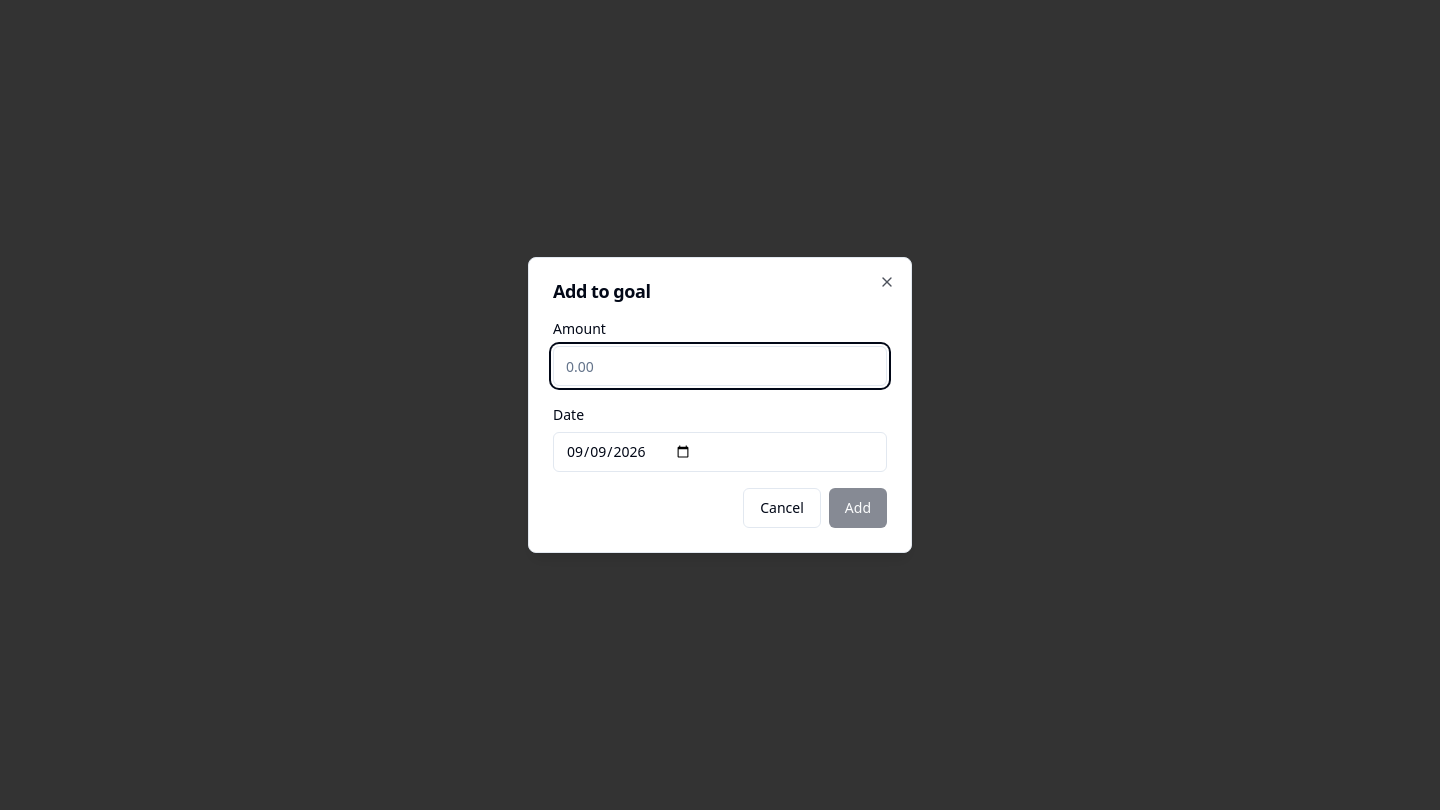
Test case: GoalContributeDialog › has no reason field when contributing and enables on a valid amount
The image size is (1440, 810).
Check: the button "Add" is disabled, box [829, 488, 887, 528]
Type "200" into the field labelled "Amount" at (720, 366), box [553, 346, 887, 386]
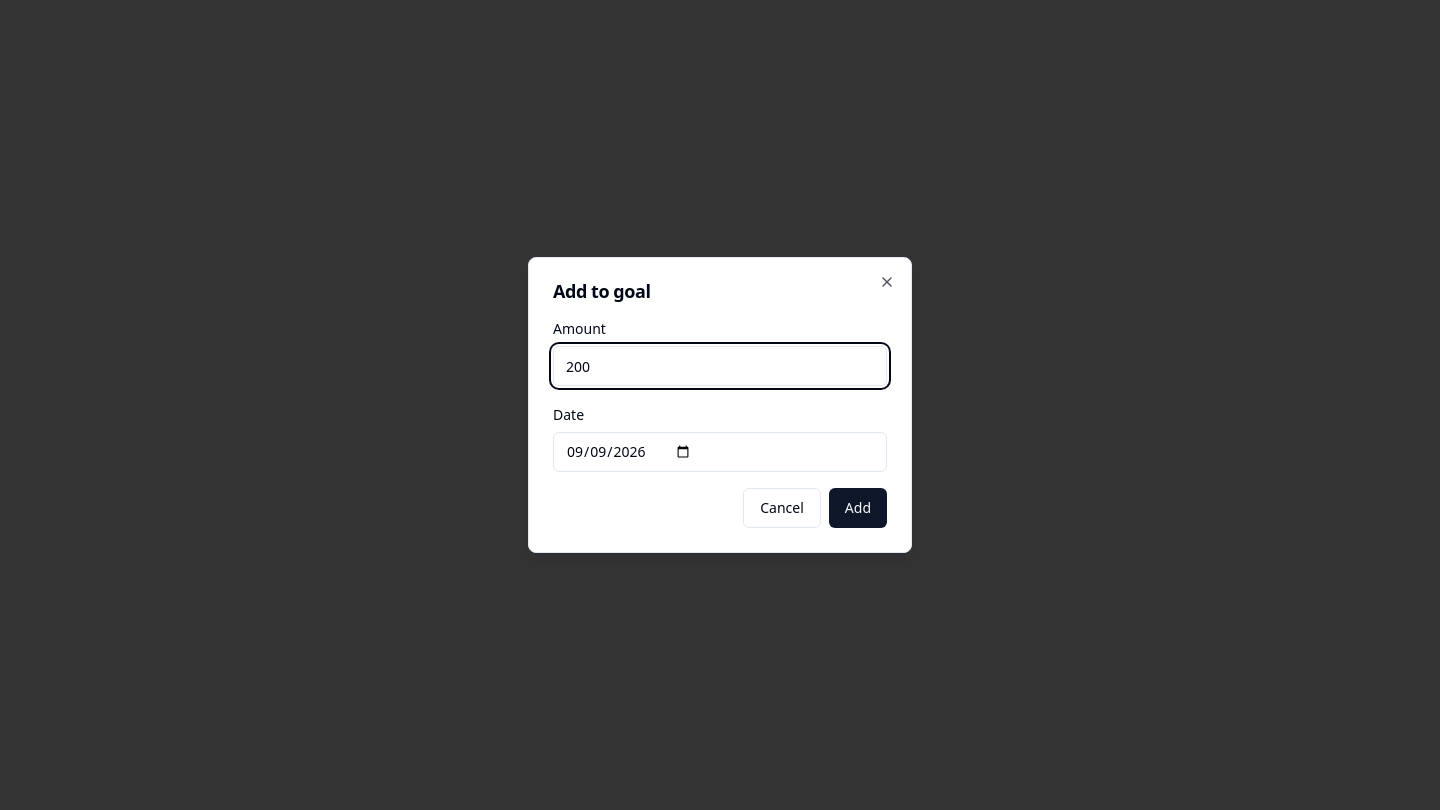
Check: the button "Add" is enabled, box [829, 488, 887, 528]
